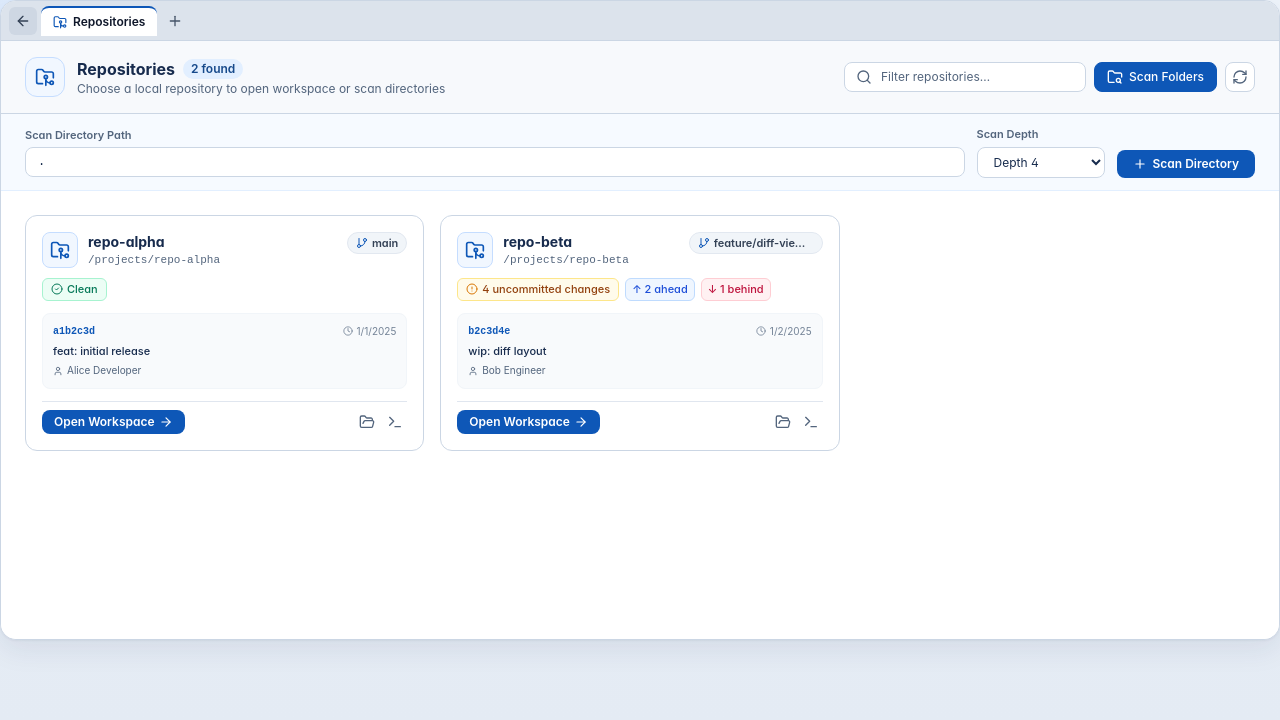
it: Git Manager Frontend Components › 8. SourceTree Workflow, Tabs, and Complete Navigation › manages repository tabs, back navigation, and SourceTree toolbar/sidebar features
This screenshot has width=1280, height=720.
Expected: the heading "repo-alpha" is shown, 88,232 -> 165,250
Expected: the heading "repo-beta" is shown, 503,232 -> 572,250
// Click repo-alpha to open SourceTree workspace
Click the button "Open Workspace" below "Alice Developer": {"x": 113, "y": 422} 42,410 -> 185,434
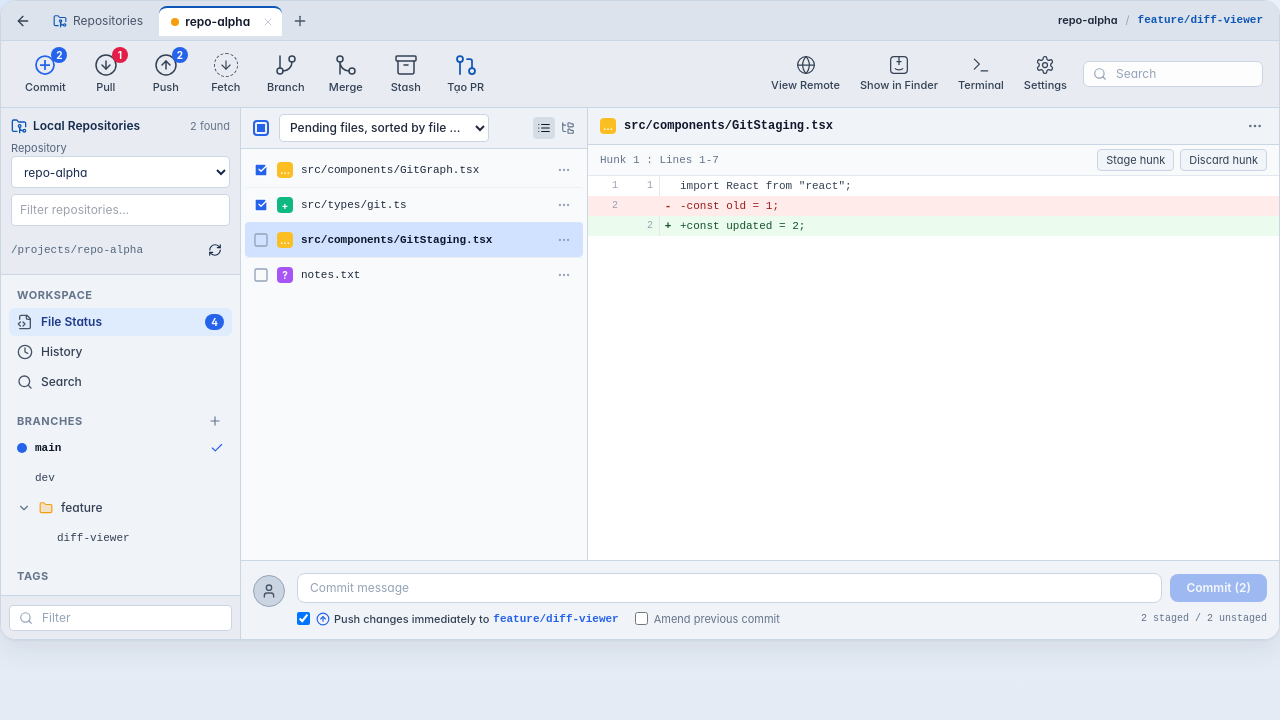
Result: the element named "Git Action Toolbar" is shown at 1,41 -> 1279,108
Result: the button "2 Commit" is shown at 17,47 -> 74,101
Result: the button "1 Pull" is shown at 78,47 -> 134,101
// Click Back arrow to return to Repositories list
Click the button named "Back to Repositories": {"x": 23, "y": 20} 9,6 -> 37,34
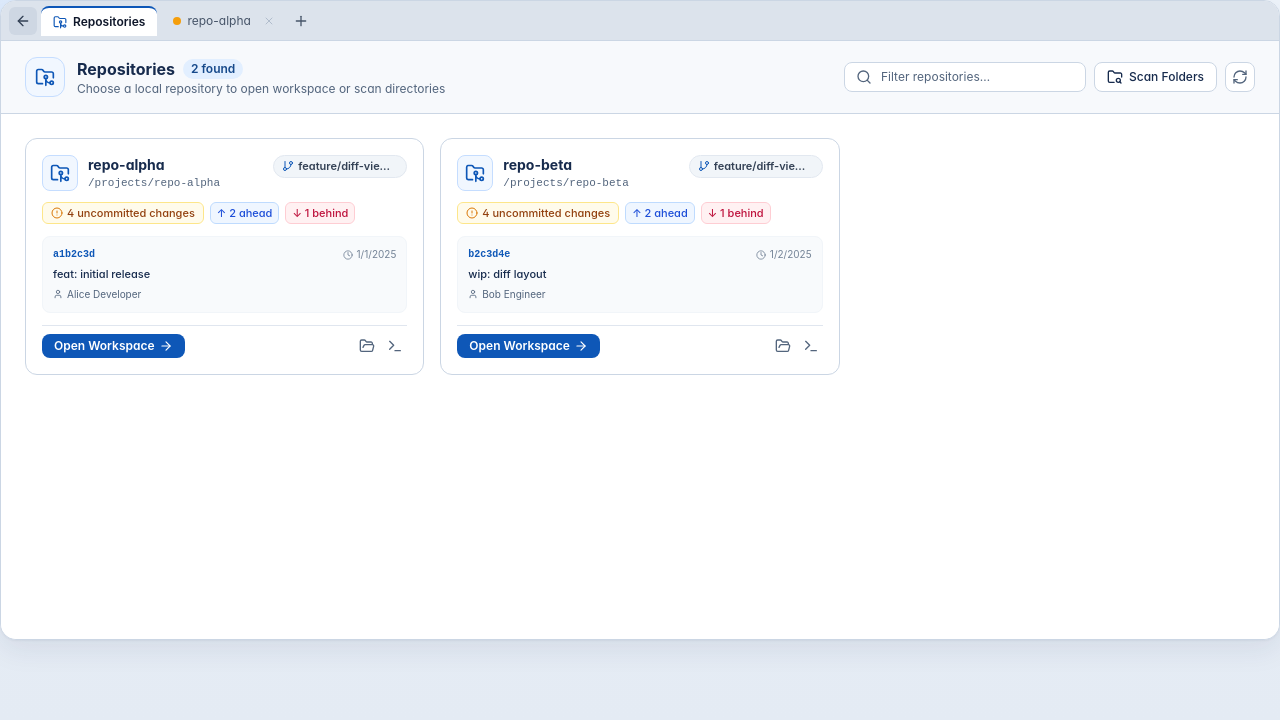
Result: the element named "Repositories Browser" is shown
// Open repo-beta from browser
Click the button "Open Workspace" below "Bob Engineer": {"x": 529, "y": 346} 457,334 -> 600,358
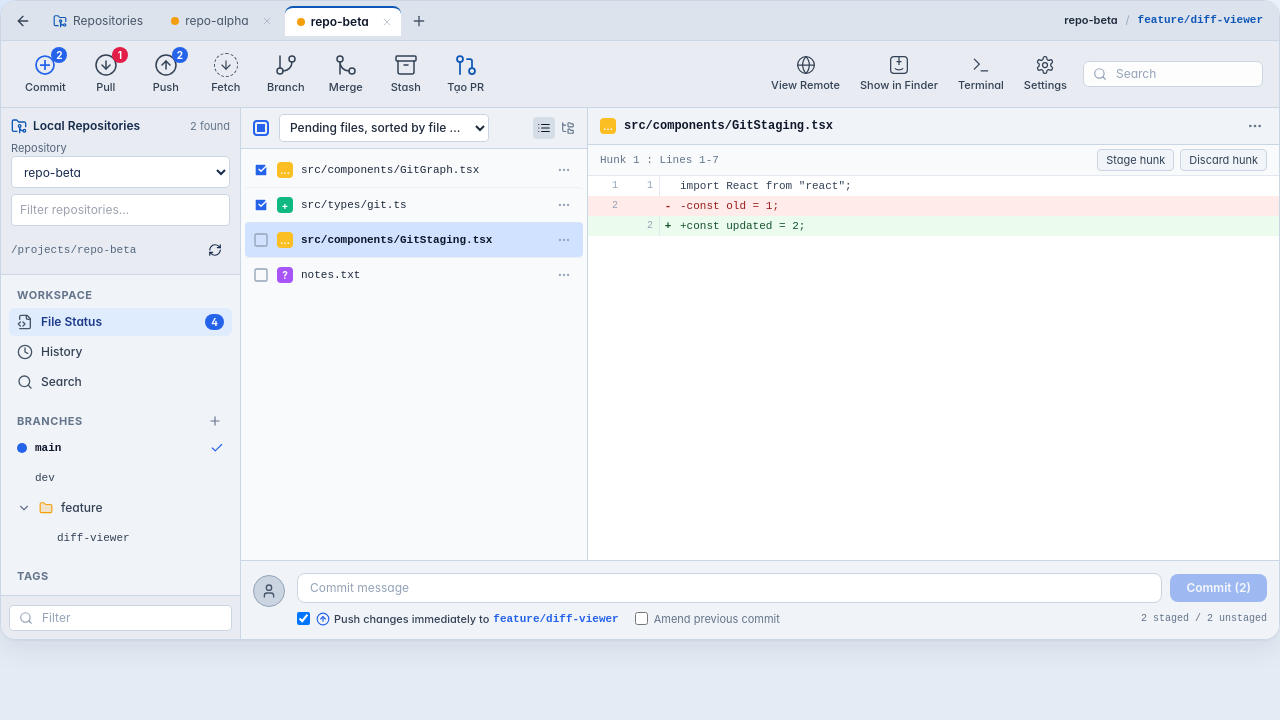
Expected: the tab "repo-alpha" is shown, 171,12 -> 275,28
Result: the tab "repo-beta" is shown at 285,6 -> 401,36
// Click '+' button to go back to Repositories Browser
Click the button named "Open another repository": {"x": 419, "y": 20} 407,8 -> 431,32
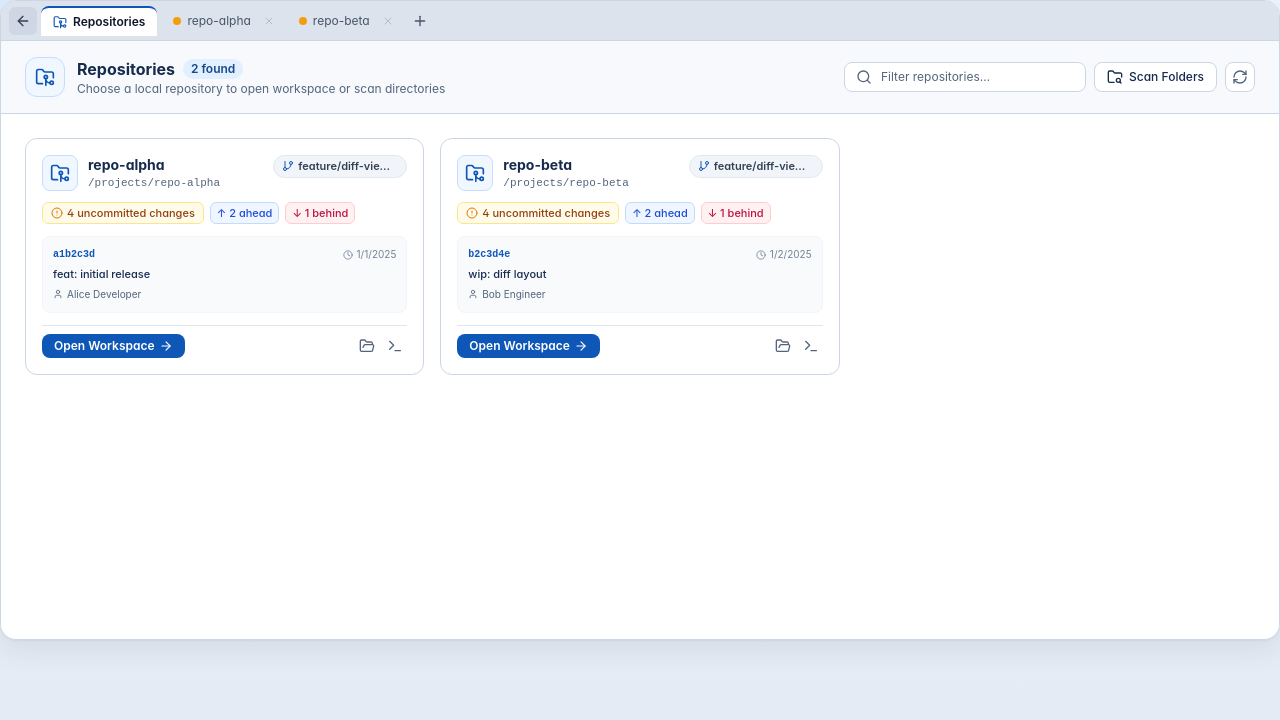
Result: the element named "Repositories Browser" is shown
// Click repo-alpha tab to switch back
Click the tab "repo-alpha": {"x": 225, "y": 20} 173,12 -> 277,28
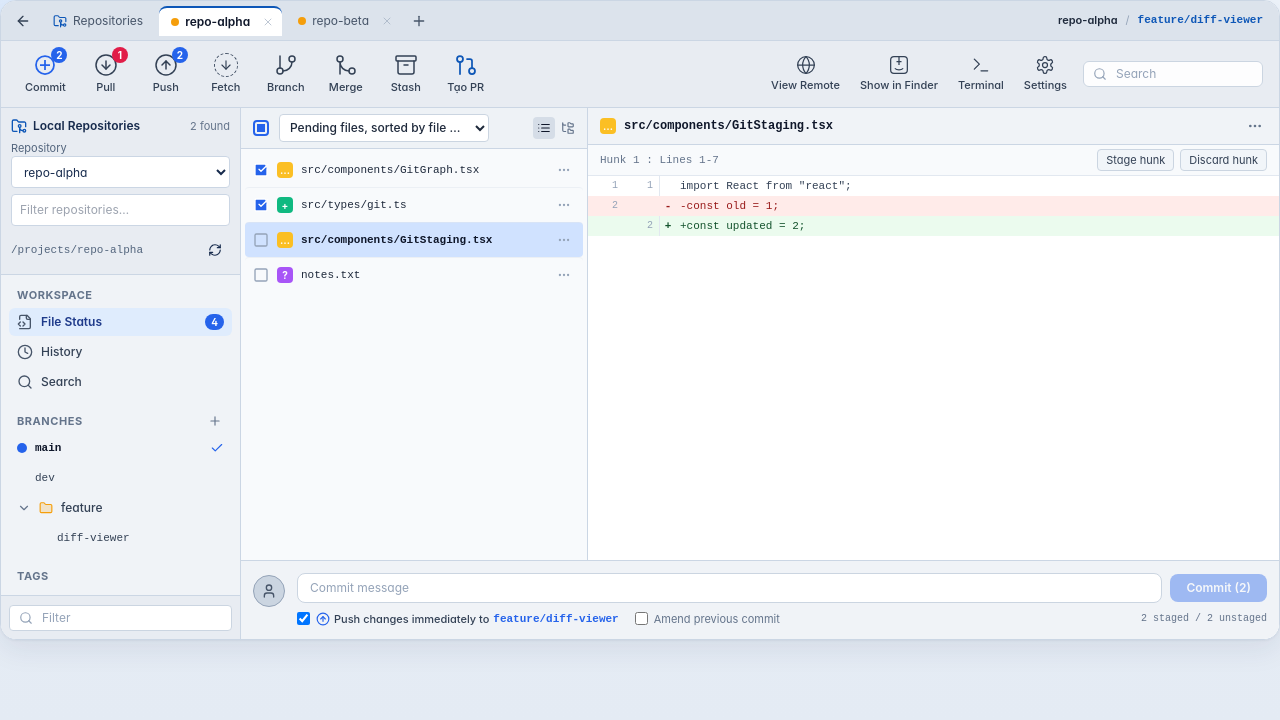
Result: the element named "Git Action Toolbar" is shown at 1,41 -> 1279,108
// Close repo-alpha tab
Click the button named "Close repo-alpha tab": {"x": 268, "y": 22} 260,14 -> 276,30
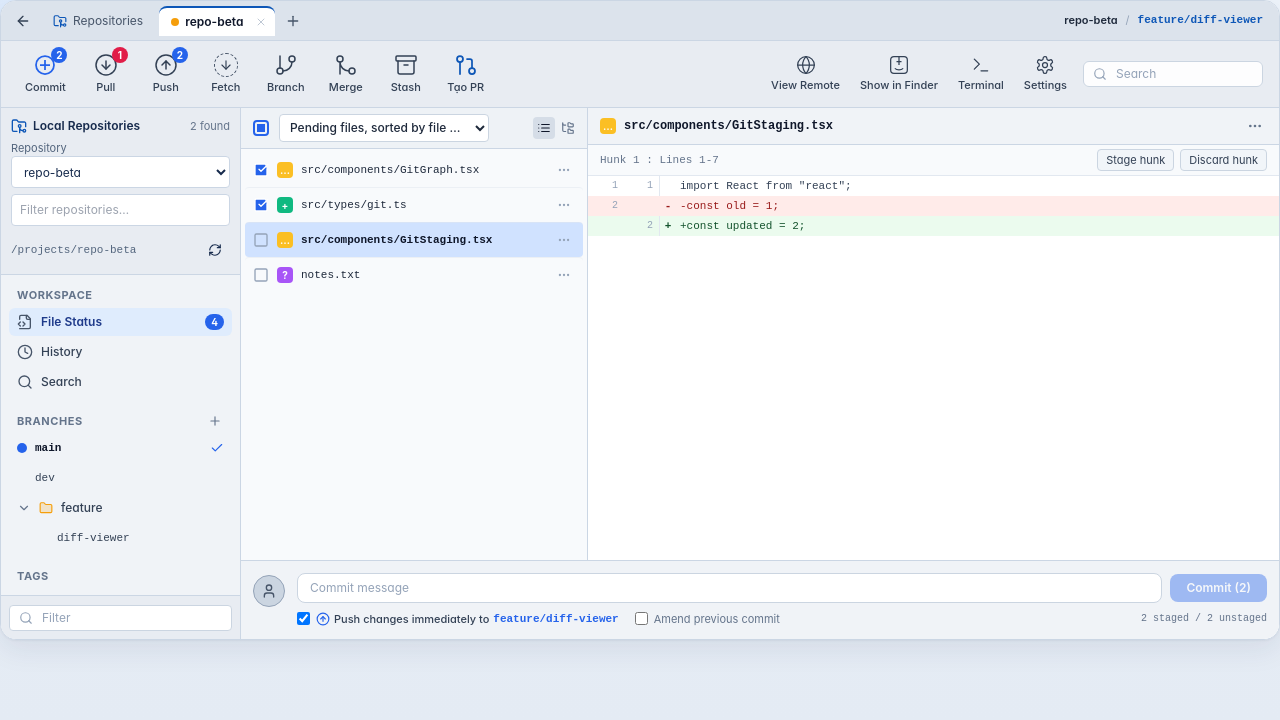
Result: the tab "repo-alpha" is gone
